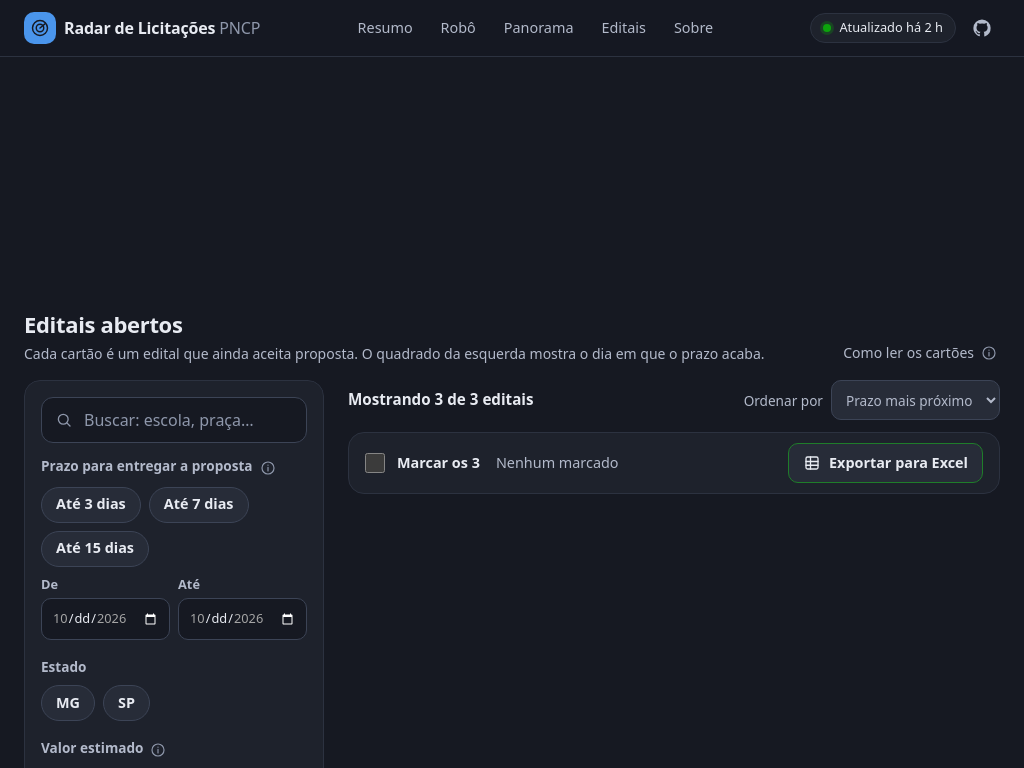
Test case: App › marcar editais e exportar para o Excel › sem nada marcado e sem resultado no filtro, só resta exportar o painel inteiro
(page scrolled)
In the search field labelled "Buscar": (174, 420) [41,397,307,443], type "zzz"
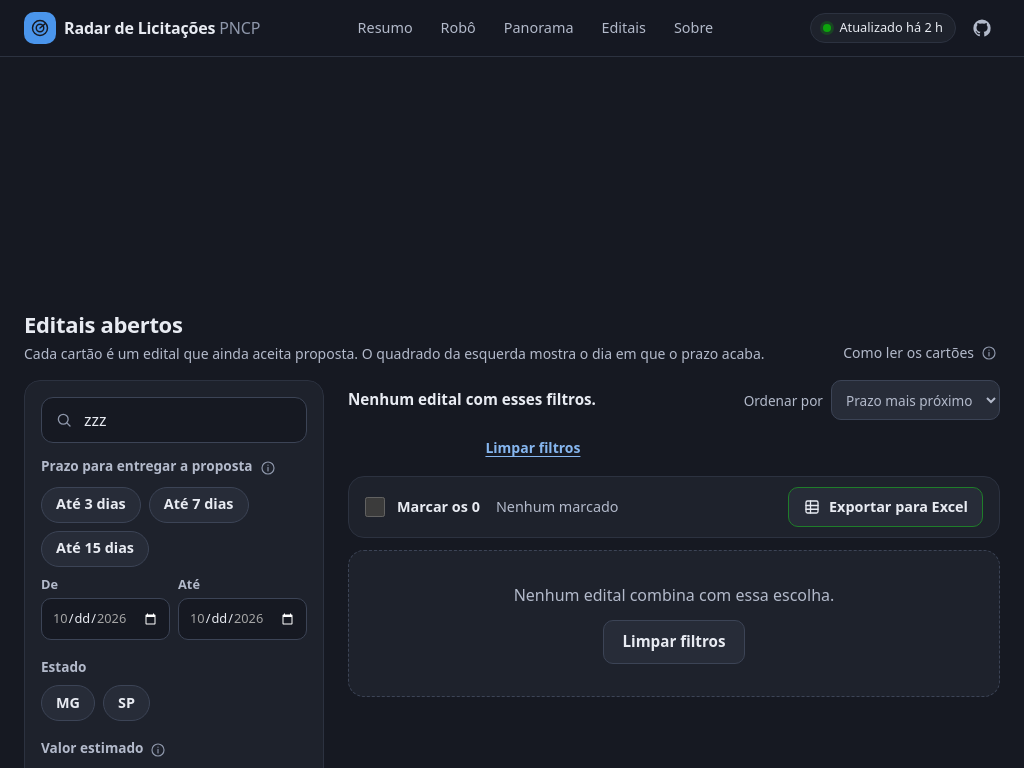
Click the button "Exportar para Excel": (886, 507) [788,487,983,527]
(page scrolled)
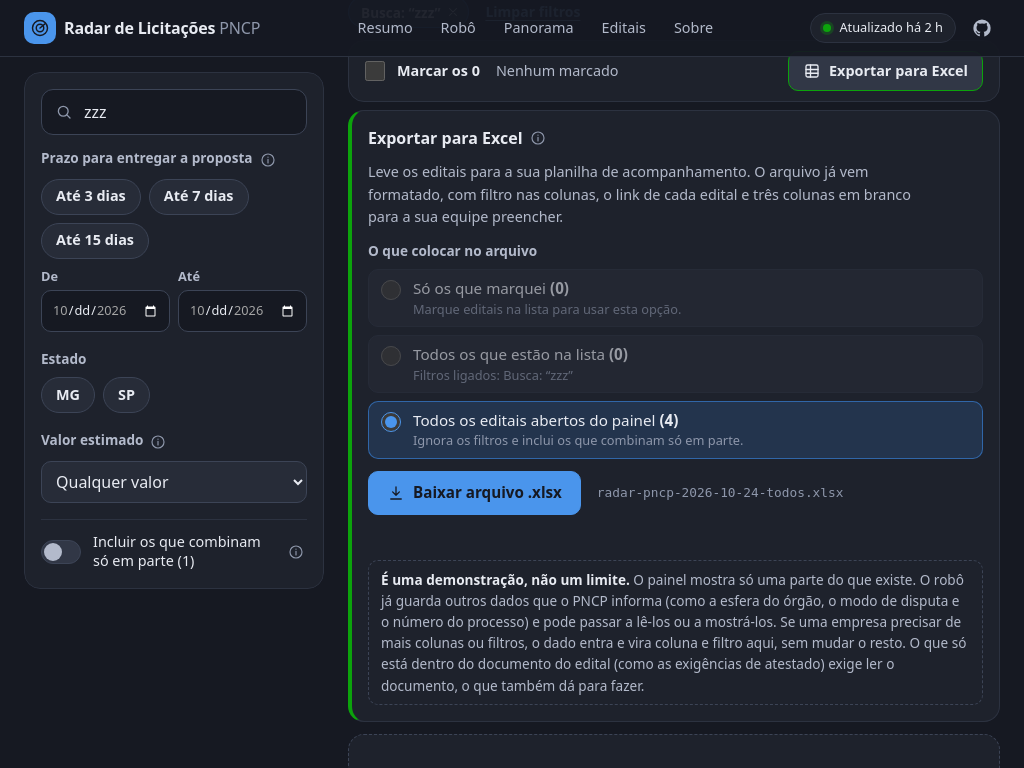
Check: the radio button labelled "Todos os que estão na lista" is disabled, box [381,346,401,366]
Check: the radio button labelled "Todos os editais abertos do painel" is checked, box [381,412,401,432]
